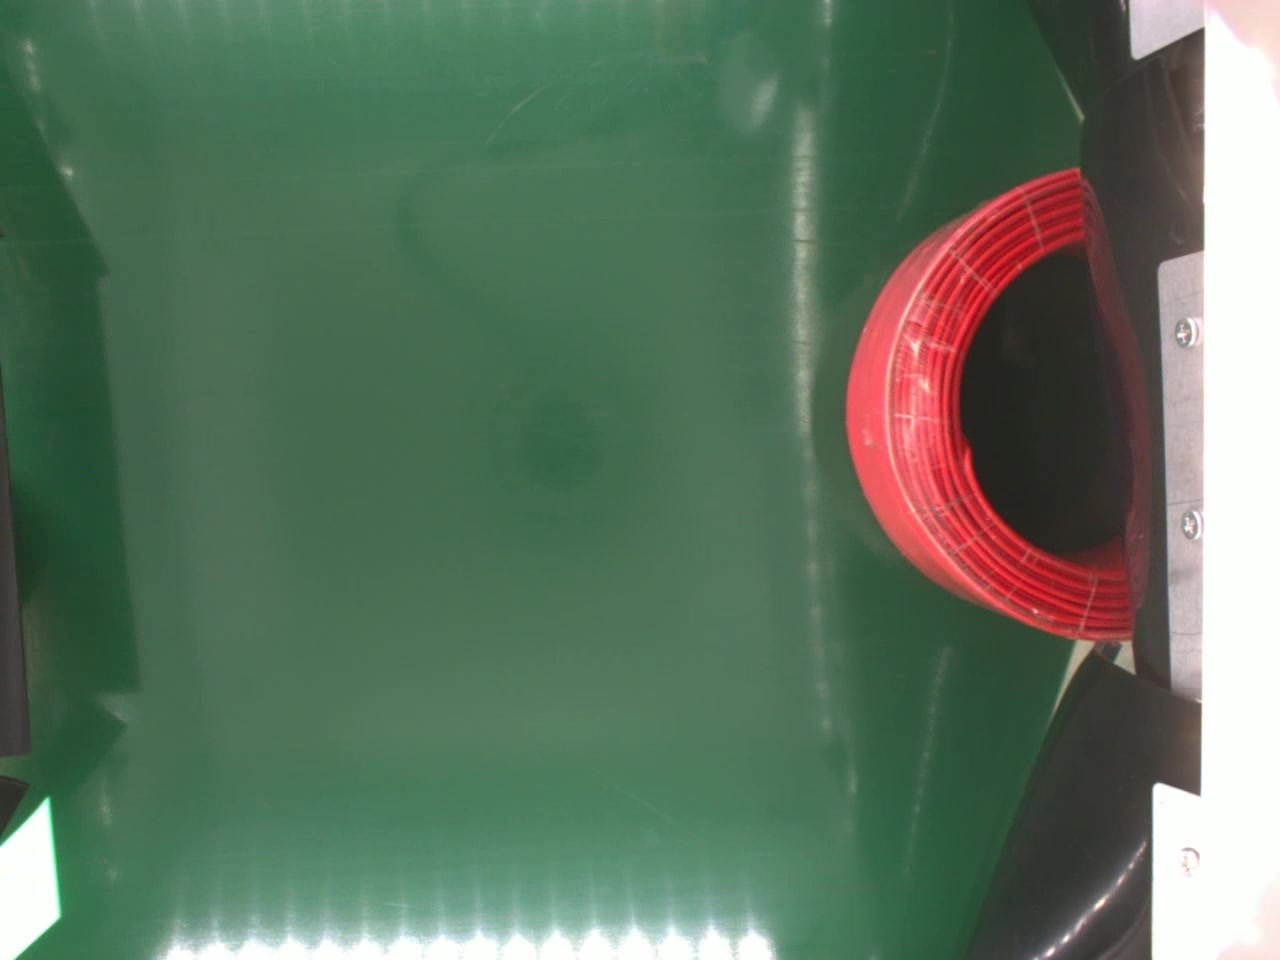red: (846, 163, 1126, 639)
